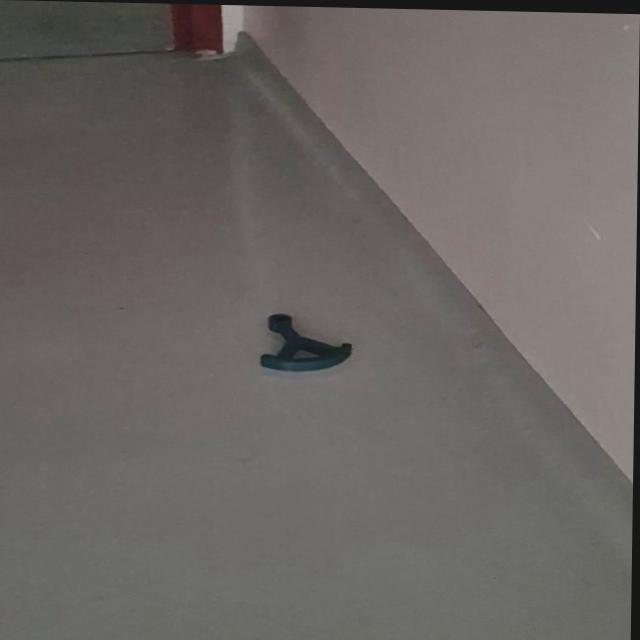haptic: (259, 312, 354, 374)
